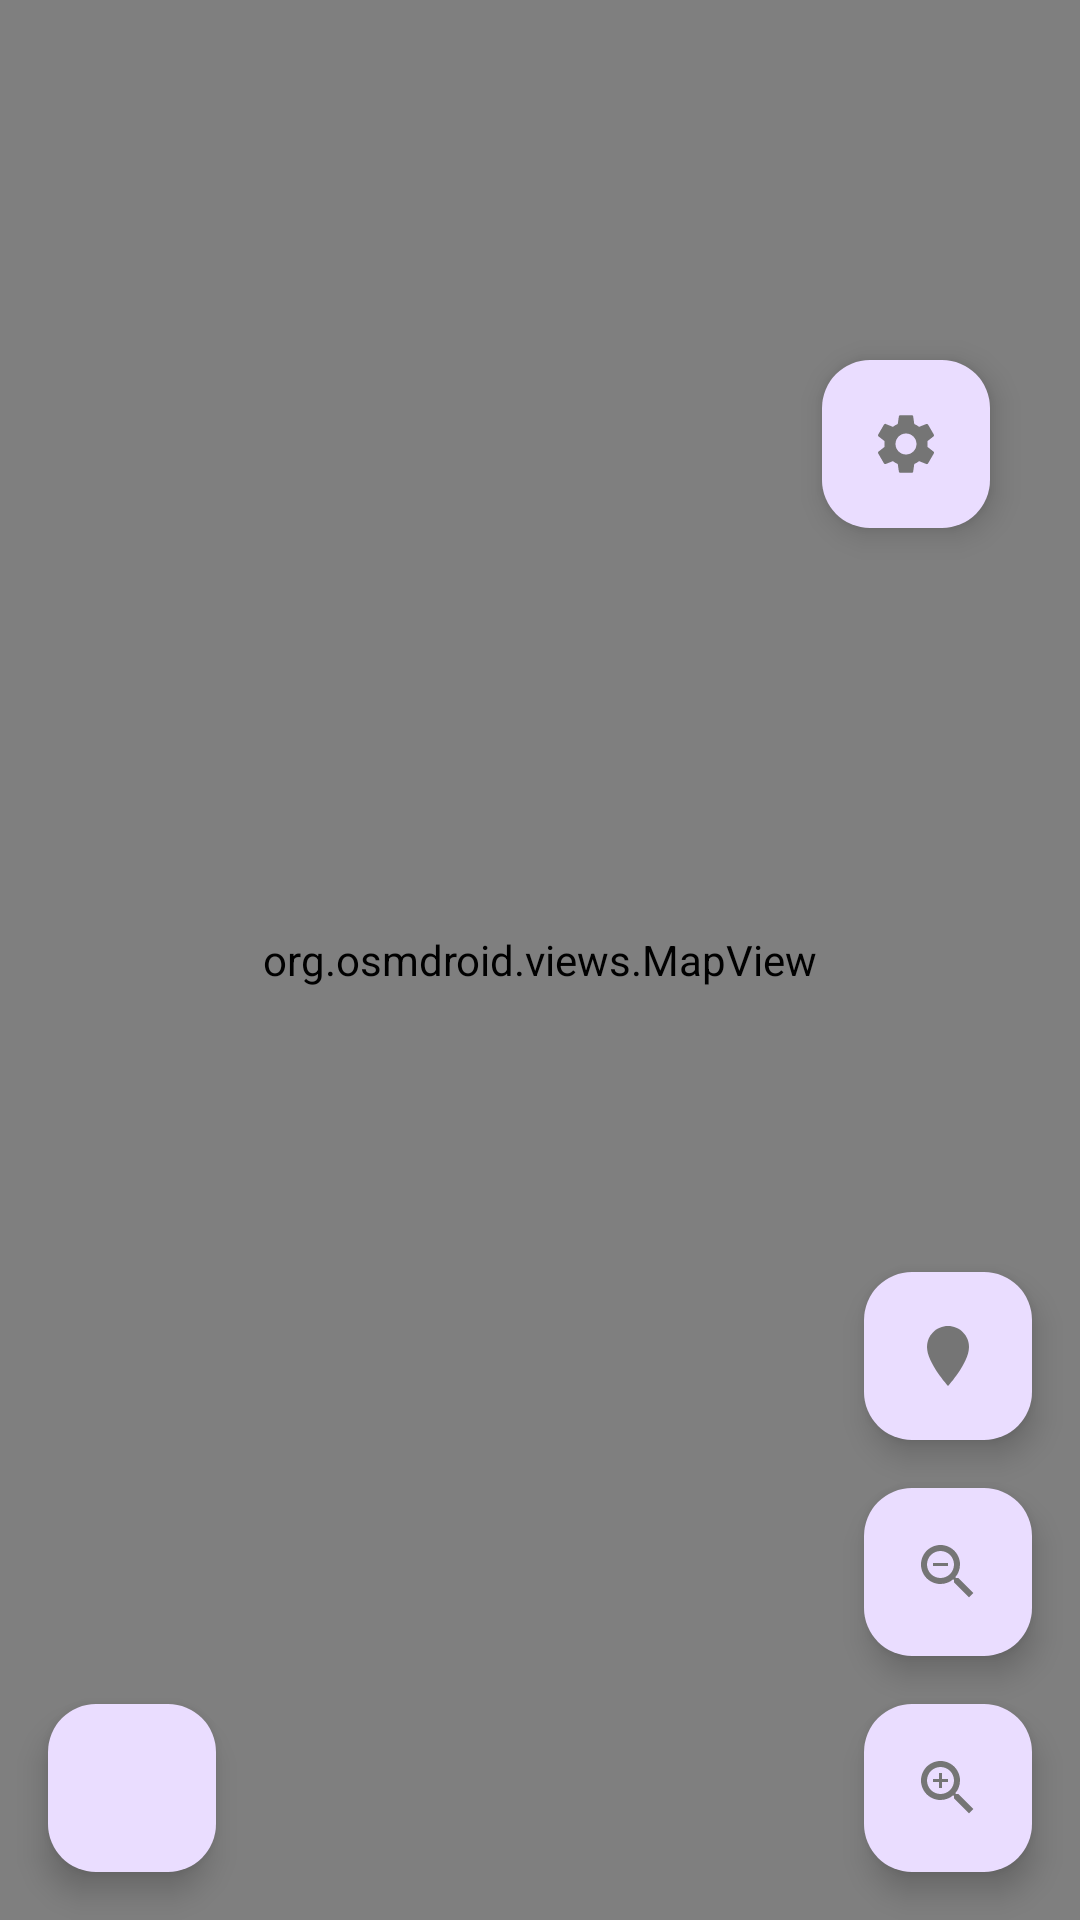

Point at icon controls on the screen. Image size 1080px×1920px, points as (x=x, y=y).
location: (x=948, y=1356)
settings: (x=906, y=444)
zoom in: (x=948, y=1788)
zoom out: (x=948, y=1572)
